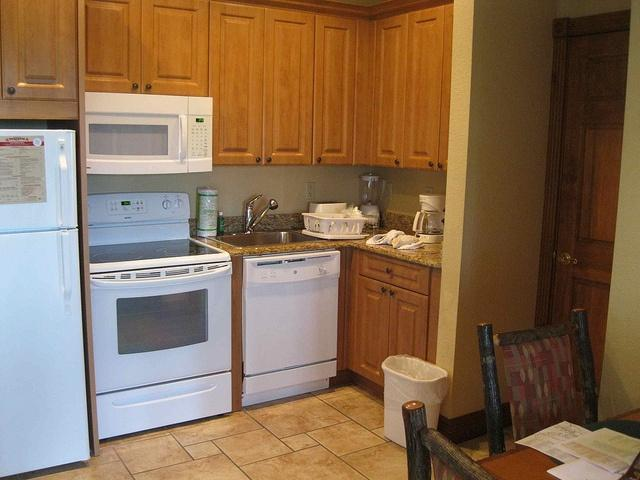Rak: (208, 0, 453, 169)
